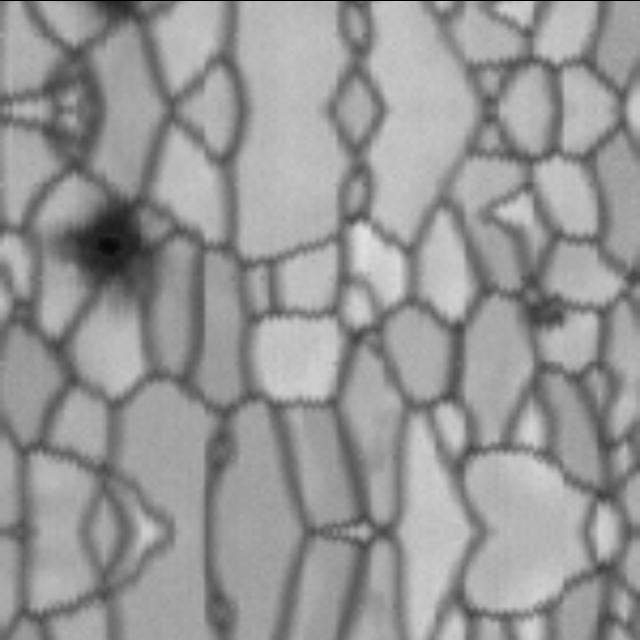good_void: (51, 179, 169, 300), (181, 415, 246, 486), (512, 274, 573, 333), (189, 584, 245, 640), (44, 107, 98, 164), (44, 55, 98, 112)
